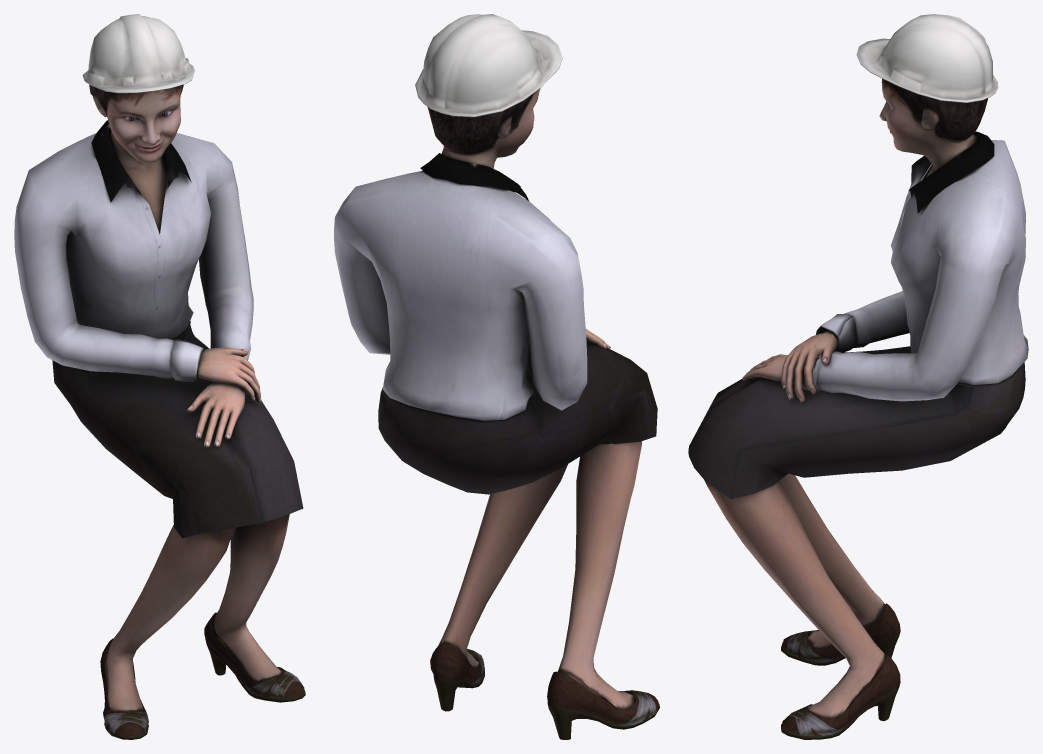
File: SWRK01_07_02.FBX
The picture shows the model from 3 angles, left to right: view 1: azimuth 30°, elevation 25°; view 2: azimuth 150°, elevation 25°; view 3: azimuth 270°, elevation 25°; orthographic projection. The views are drawn at different scales.
Visible parts, largest first — view 1: SWRK01_07_02; view 2: SWRK01_07_02; view 3: SWRK01_07_02.
Part boxes in pixels (bbox=[...]): SWRK01_07_02: bbox=[14, 14, 305, 739]; SWRK01_07_02: bbox=[334, 14, 659, 739]; SWRK01_07_02: bbox=[688, 14, 1028, 739].
Size of the model in its own units: 18.75 by 54.13 by 24.82.
